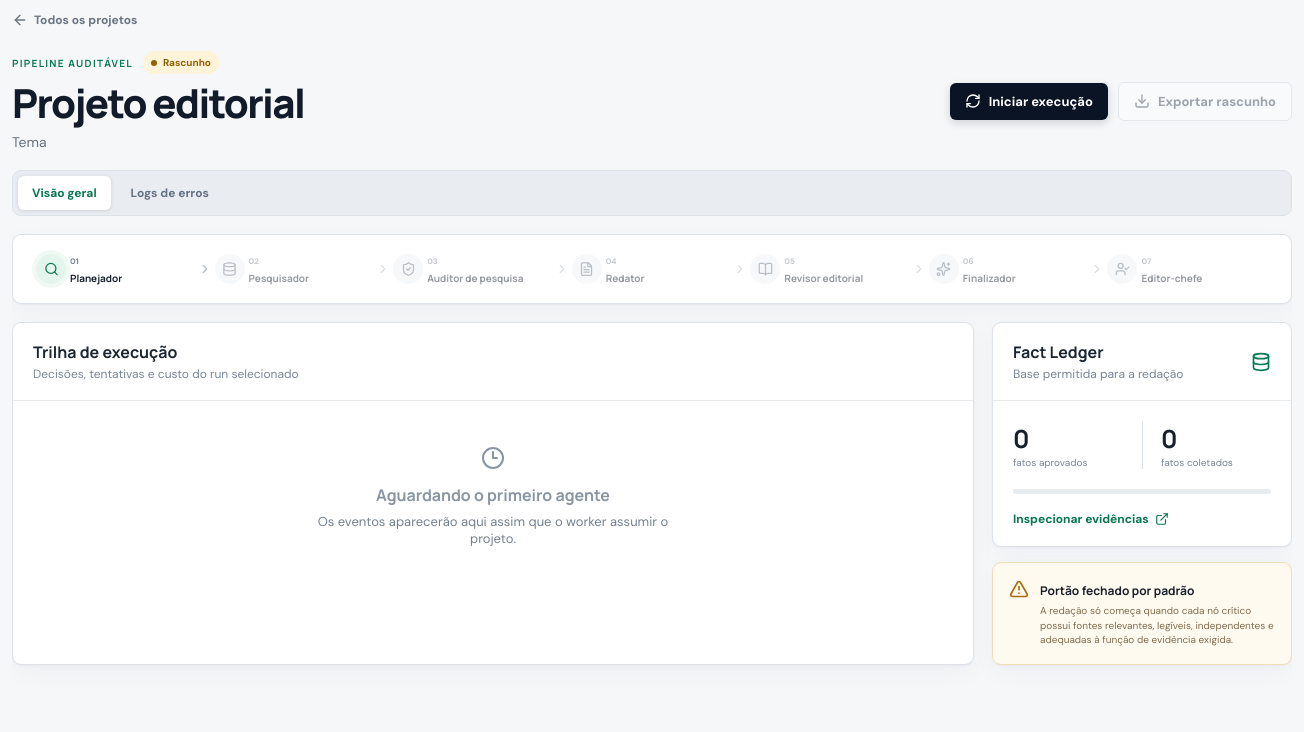
Test: Pipeline editorial export › starts a legacy project that was created without any pipeline run
Click the button "Iniciar execução".
click(1029, 101)  # box [950,82,1108,120]
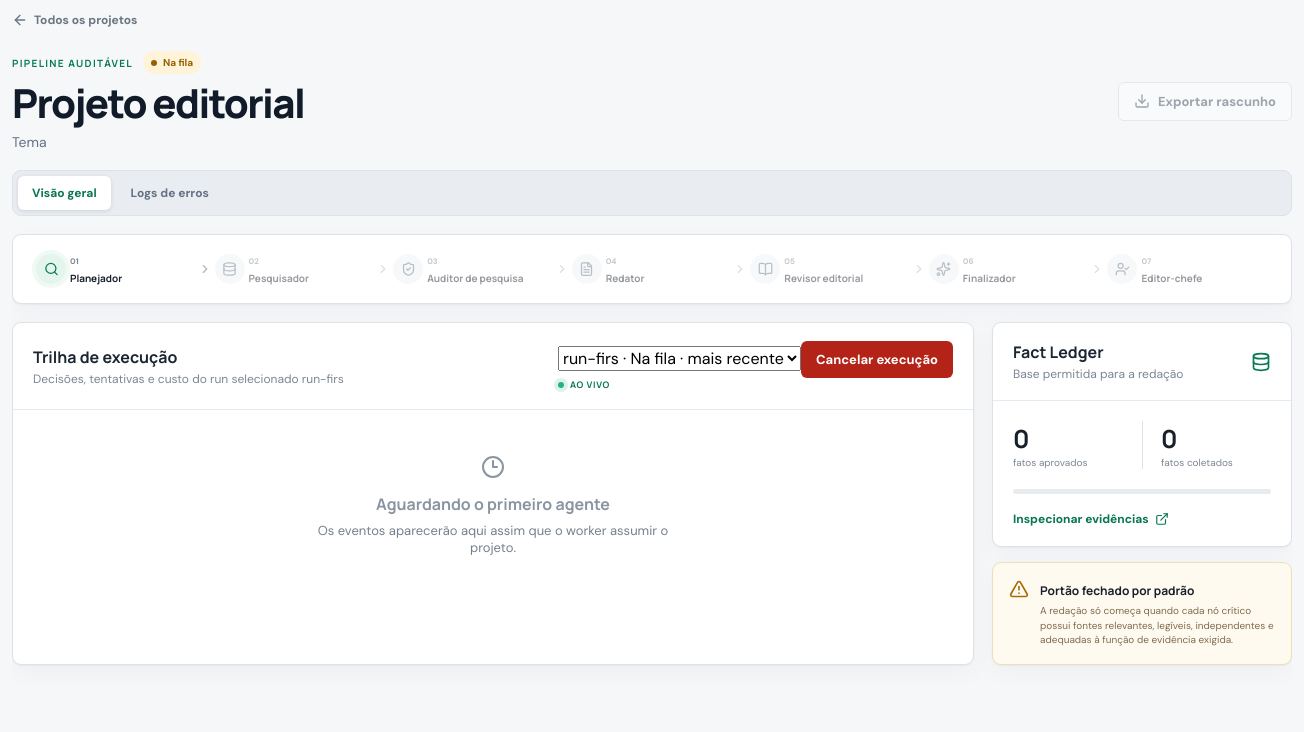
Expected: the dropdown named "Execução do pipeline" shows "run-firs · Na fila · mais recente", [558,346,801,371]
